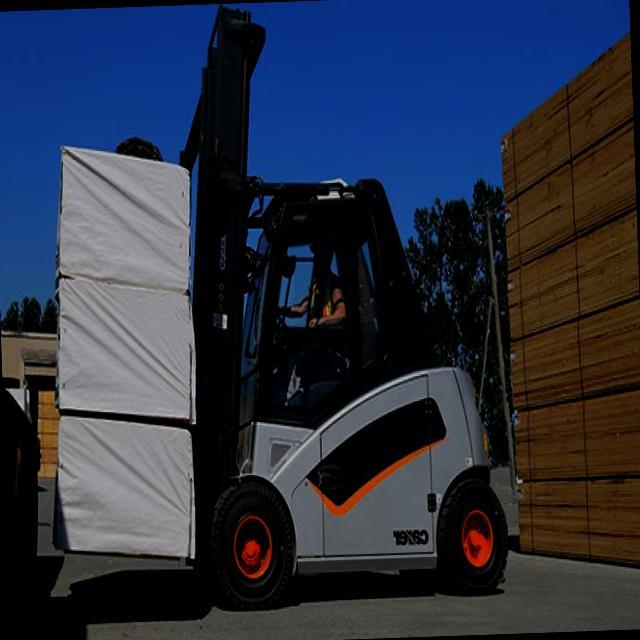driver: (271, 233, 346, 403)
forklift: (170, 0, 528, 623)
